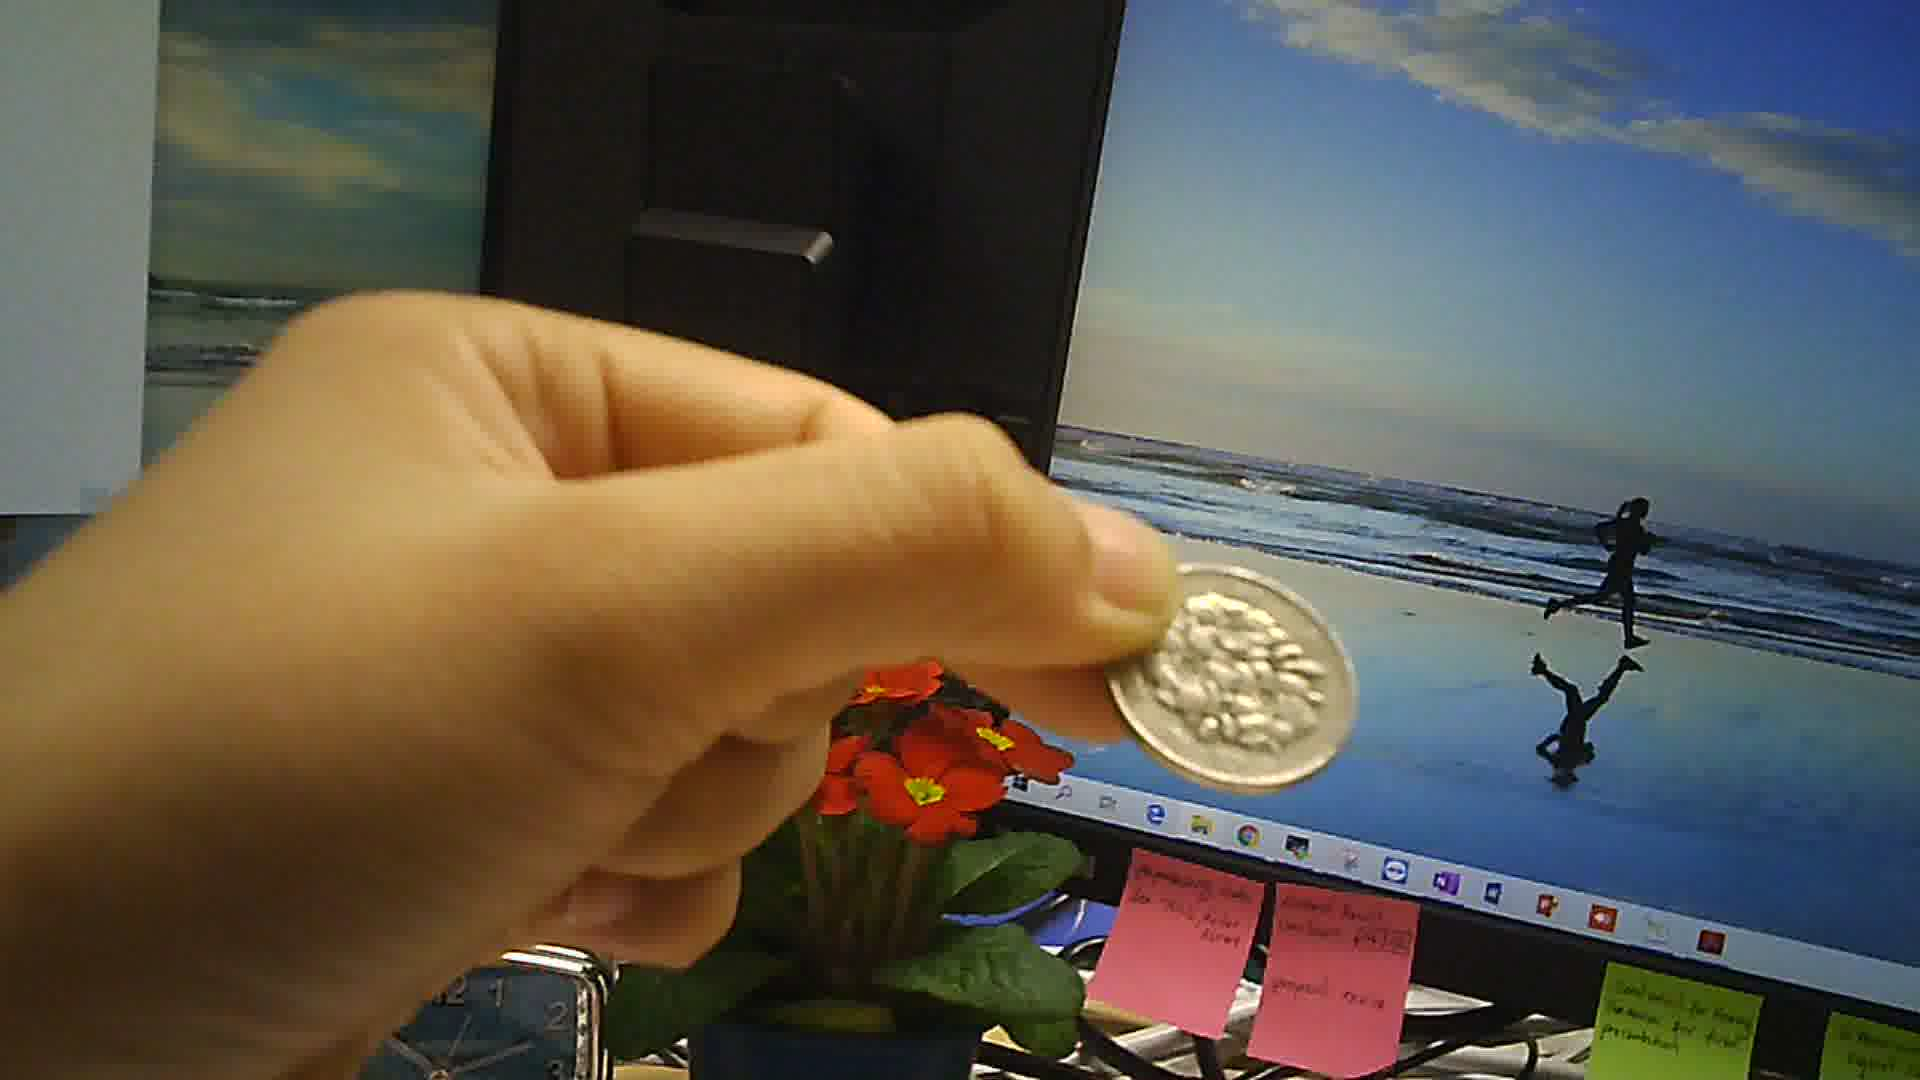100 Yen: (1102, 555, 1364, 787)
